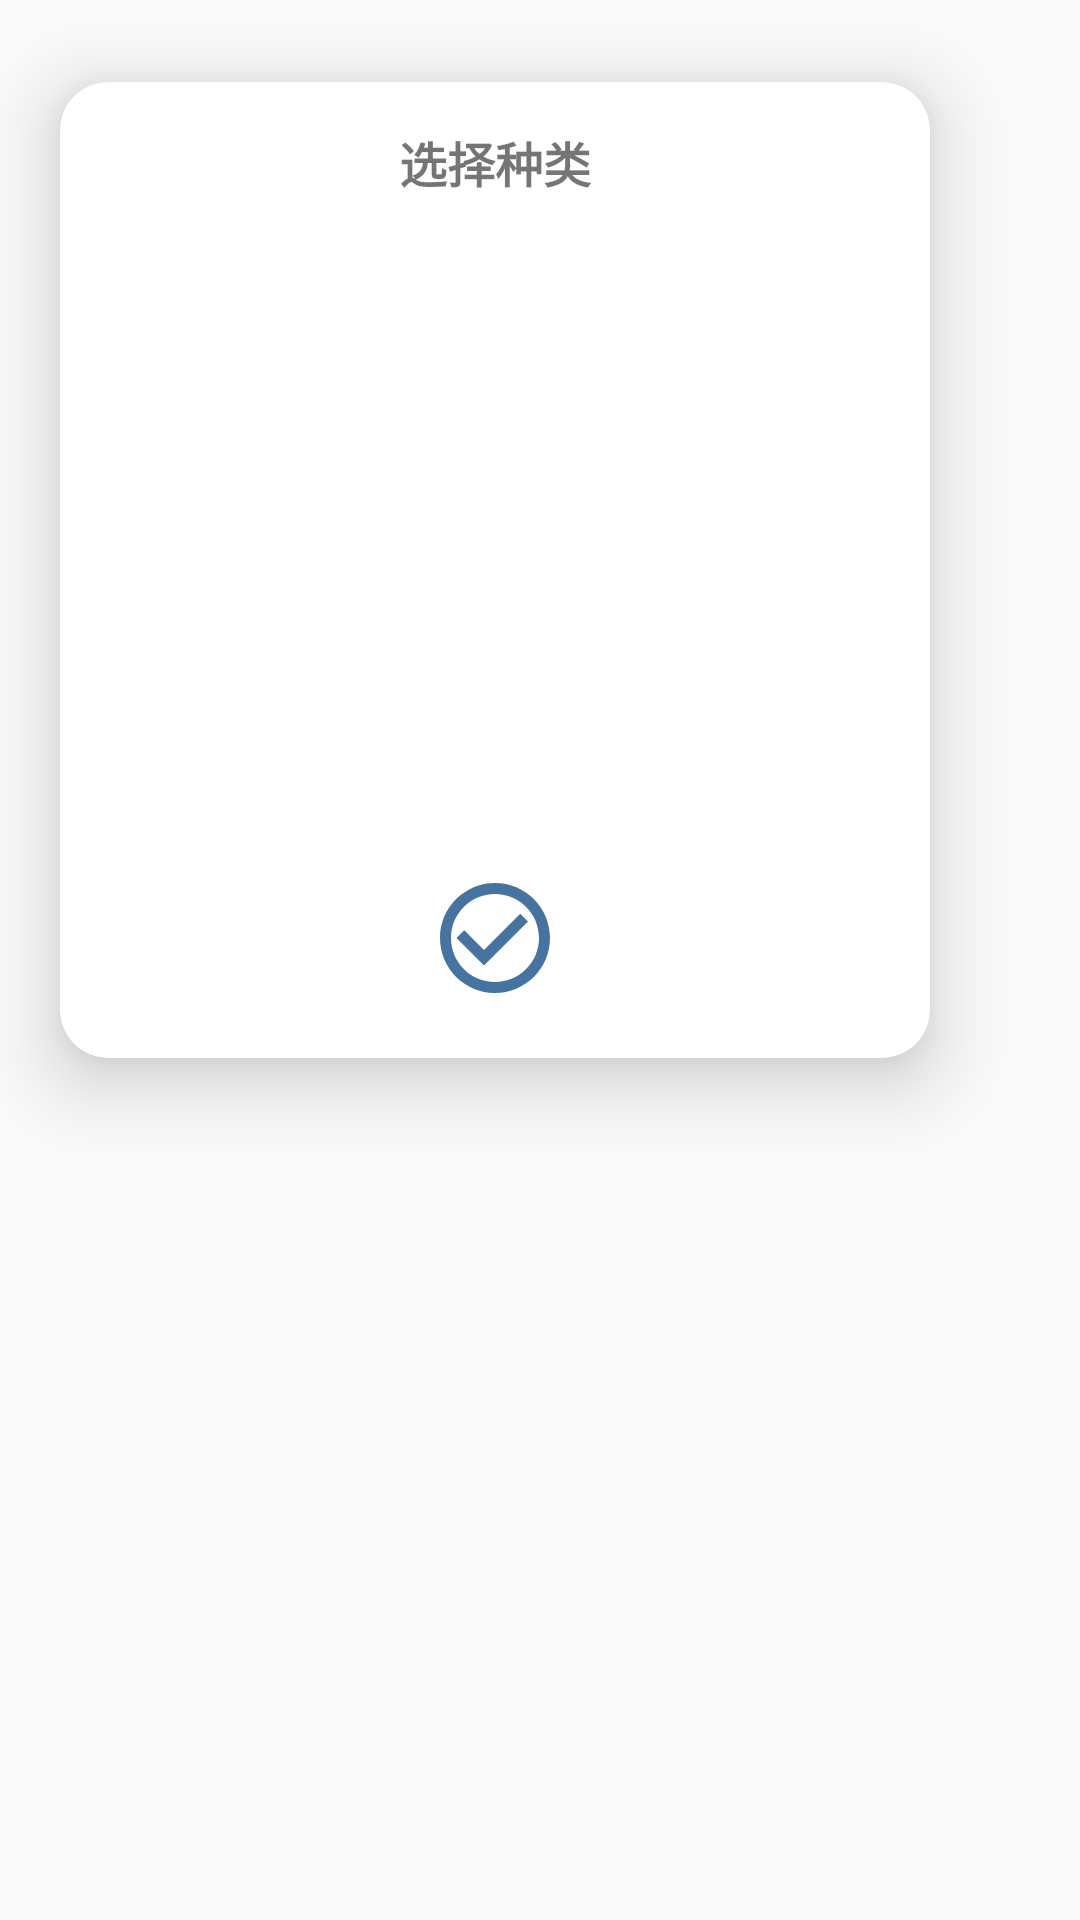

Where to tap for icons on this 1080x1920 app screen, as [x,y]:
check circle: [495,938]
